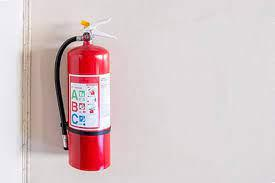wall-mounted: (46, 14, 138, 182)
